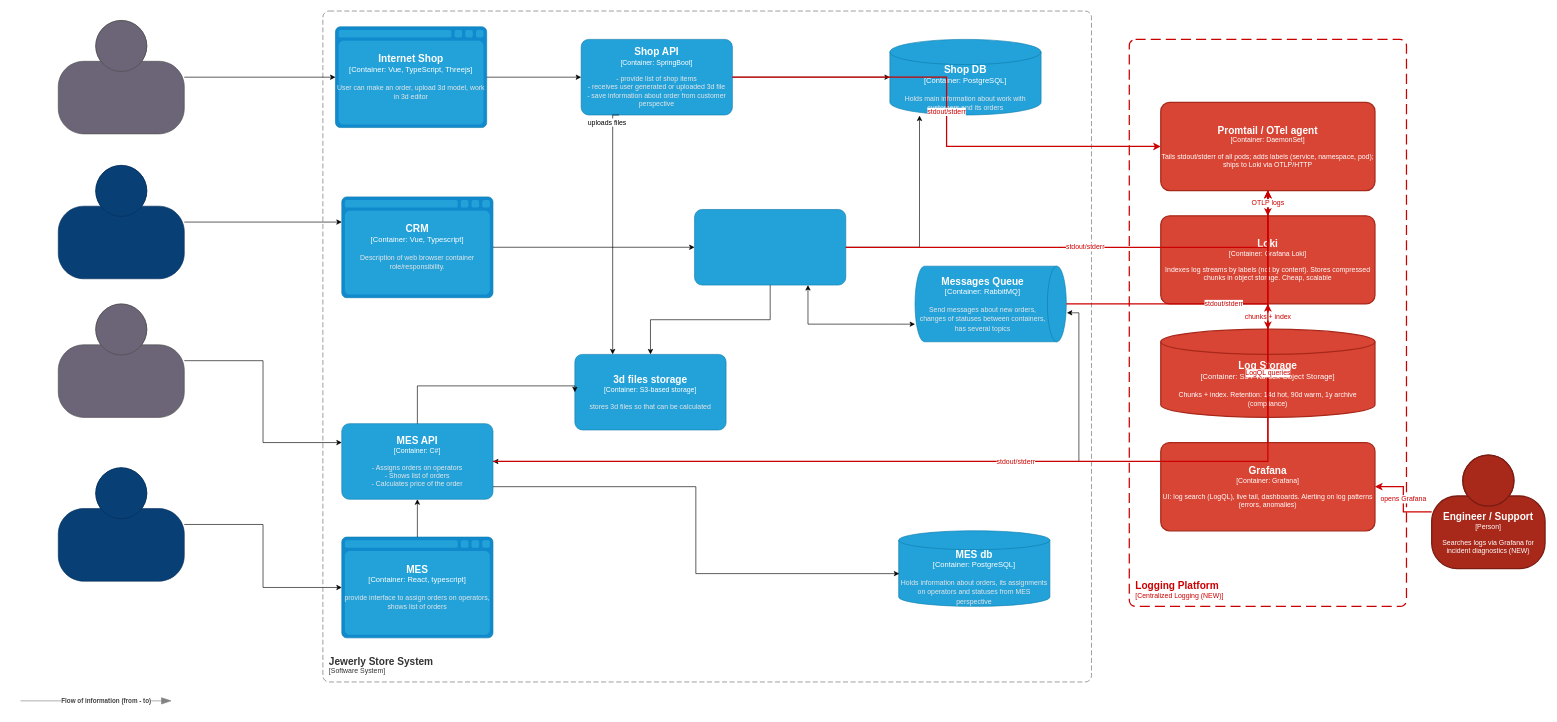
Image size: 1557x722. Some labels were removed from this diagram. The shapes that lost their labels are listed below. From the top down, each one's centre as x and y in pixels, then its label:
At [121,77]: "Customer [Person] Description of external person.".
At [121,222]: "Seller [Person] Operates with order, confirms manufacturing for the user".
At [770,247]: "CRM API [Container: SpringBoot] Description of container role/responsibility.".
At [121,360]: "API user [Person] Description of external person.".
At [121,524]: "Operator [Person] Takes order in work, manufactures jewerly".
